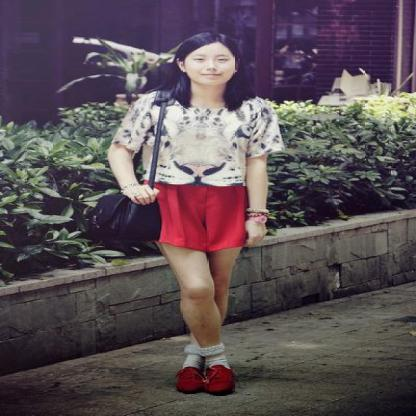bag: (88, 85, 176, 241)
shirt: (112, 91, 288, 186)
shoe: (175, 343, 233, 395)
skirt: (155, 175, 255, 251)
